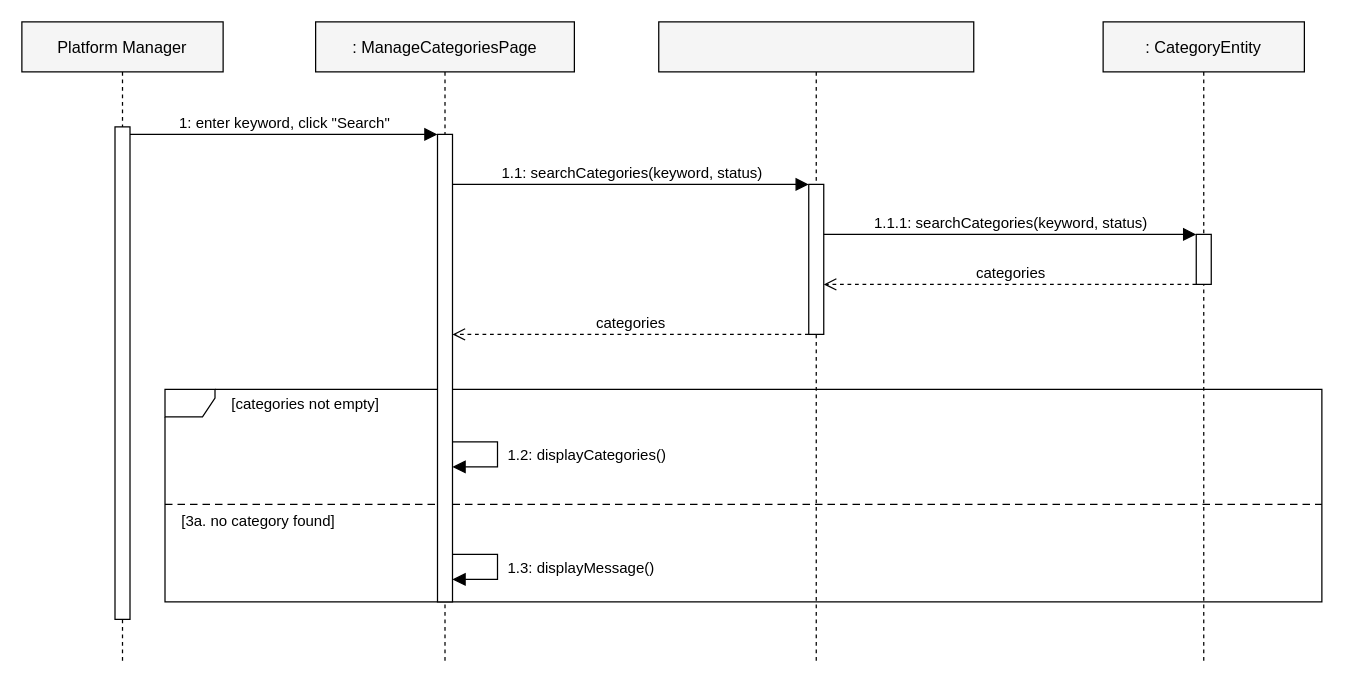
Some shapes in this 1345 by 686 pixel diagram are drawn without their labels. The box of each missing label's shape, as (x1, y1, x2, y2) in pixels:
: SearchCategoriesController: (658, 21, 974, 664)
alt: (164, 388, 1322, 602)
